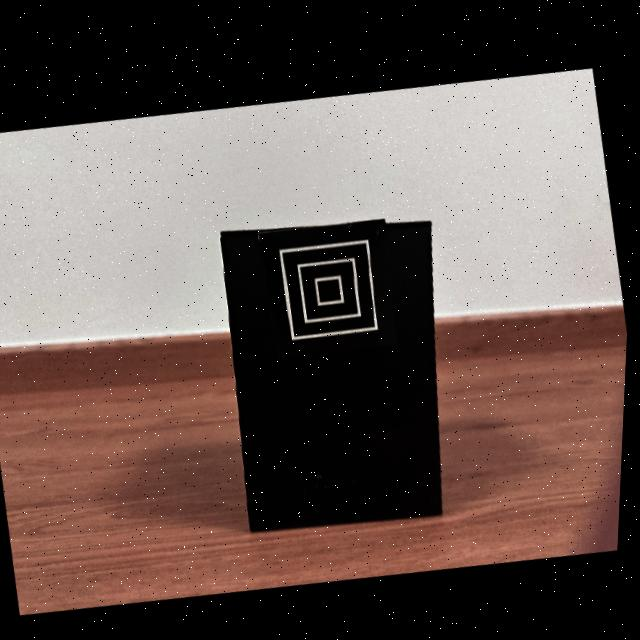BULLSEYE: (260, 213, 402, 356)
